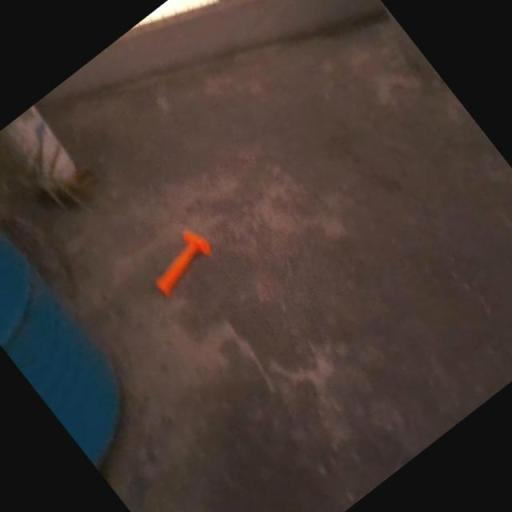mallet: (142, 224, 220, 299)
